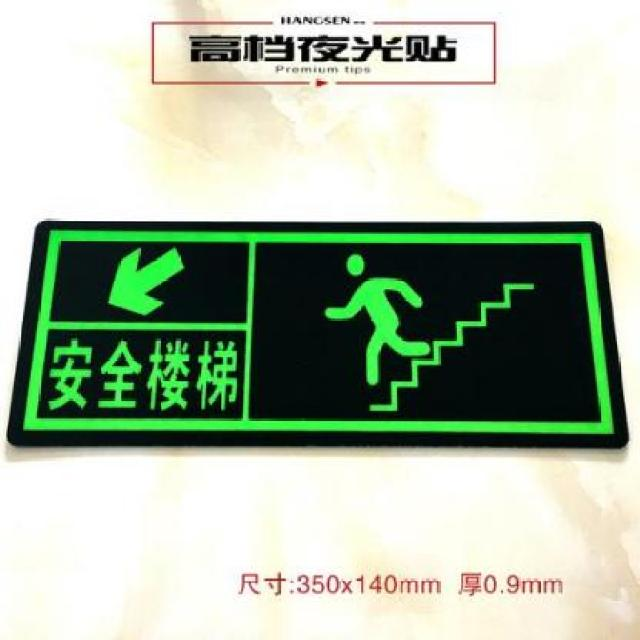exit_sign: (32, 223, 640, 461)
